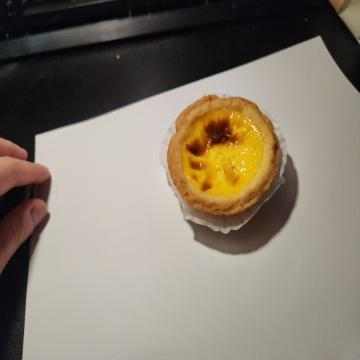EggTart: (167, 94, 280, 217)
